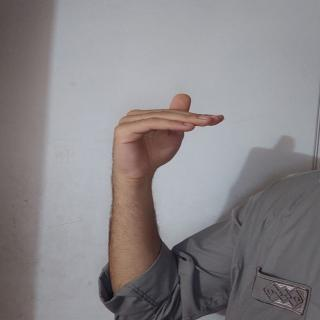KHAA: (101, 88, 227, 187)
